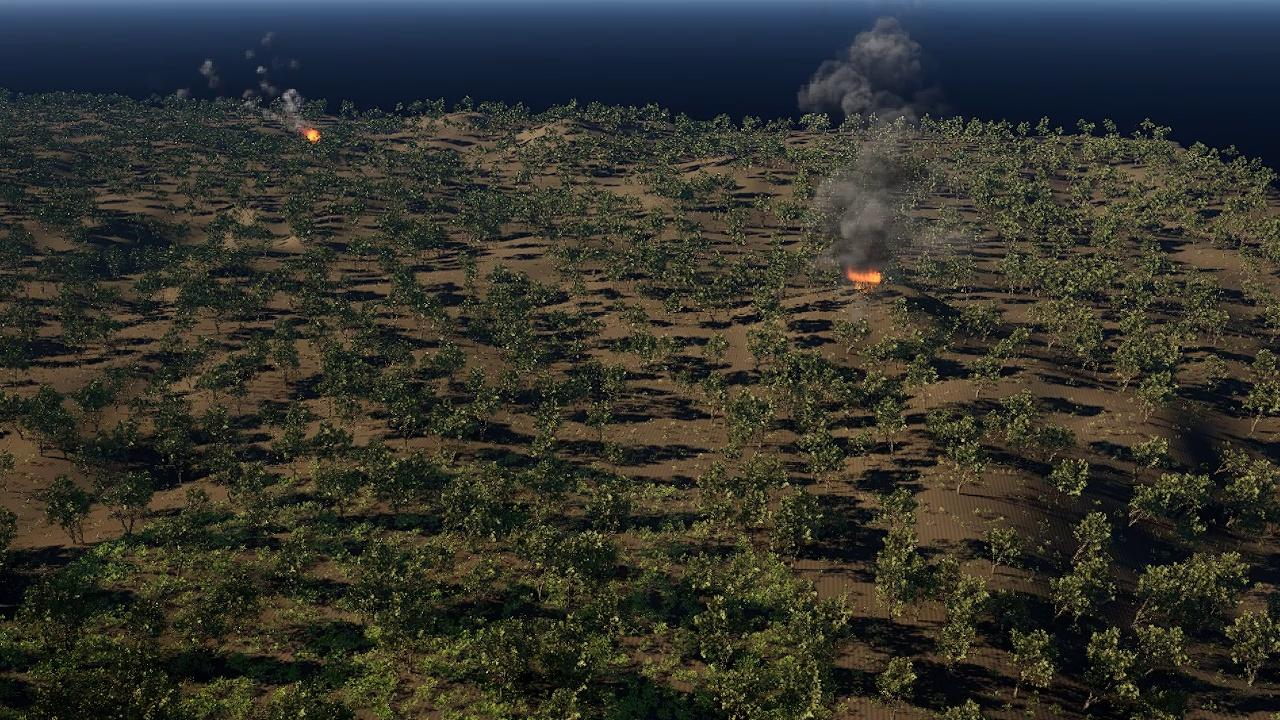fire: (848, 269, 883, 286), (303, 129, 320, 142)
smoke: (812, 116, 985, 270), (799, 12, 951, 116), (252, 76, 309, 133), (848, 294, 888, 338), (195, 58, 221, 92)
